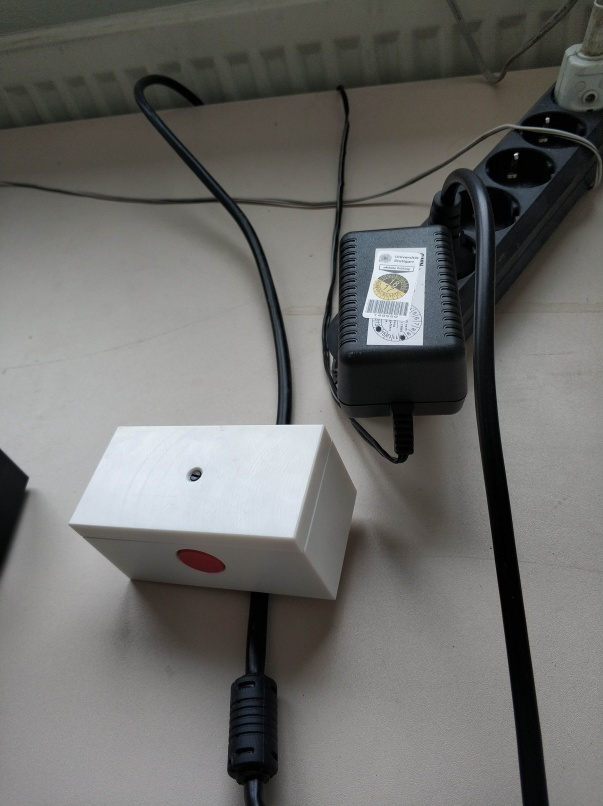white+white+red: (65, 418, 361, 605)
